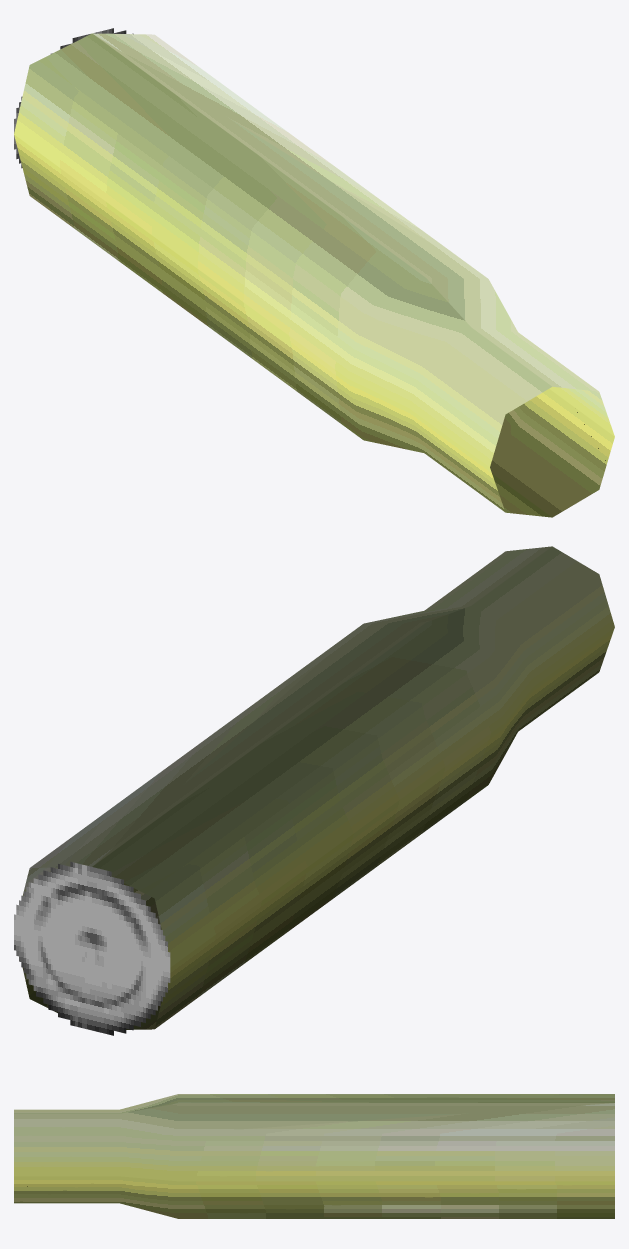
Rendered from GcartblueZ.obj.
The picture shows the model from 3 angles, top to bottom: view 1: azimuth 30°, elevation 25°; view 2: azimuth 150°, elevation 25°; view 3: azimuth 270°, elevation 25°; orthographic projection. The views are drawn at different scales.
Bounding box in the file's own units: 10 × 10 × 51.
2 materials, 2 textured.
